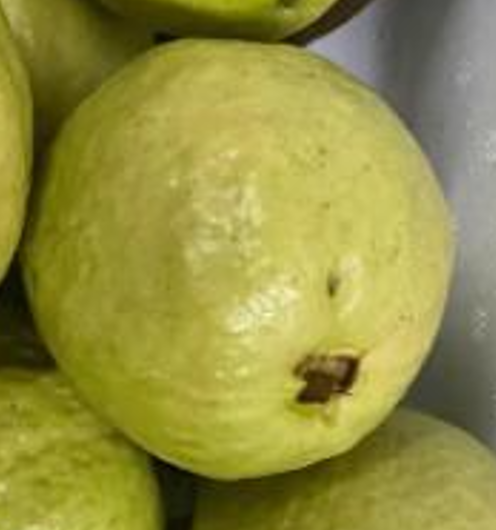guava_B: (17, 36, 456, 482)
